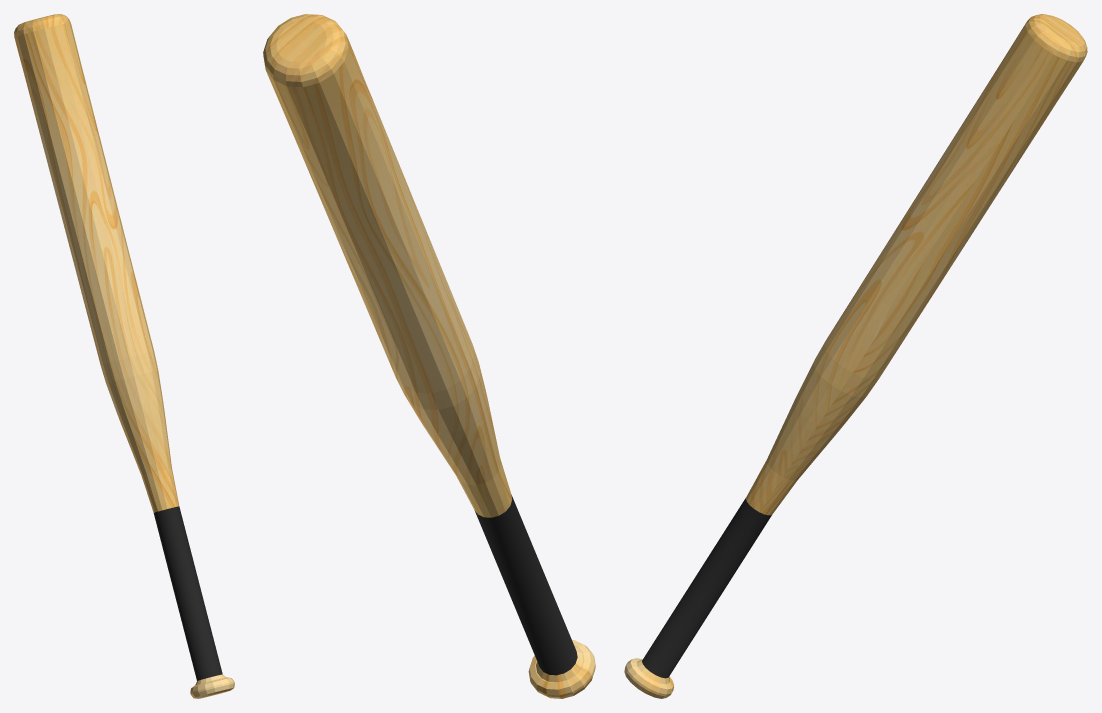
File: BaseballBat.fbx
3 views of the same model, side by side, from view 1: azimuth 30°, elevation 25°; view 2: azimuth 150°, elevation 25°; view 3: azimuth 270°, elevation 25° (orthographic). The views are drawn at different scales.
Visible parts, largest first — view 1: Cylinder; view 2: Cylinder; view 3: Cylinder.
Boxes of the visible parts, box(x1,y1,x2,y2) form: Cylinder: box(14, 14, 234, 698); Cylinder: box(263, 14, 595, 698); Cylinder: box(624, 14, 1087, 698).
Size of the model in its own units: 30 by 320 by 199.
